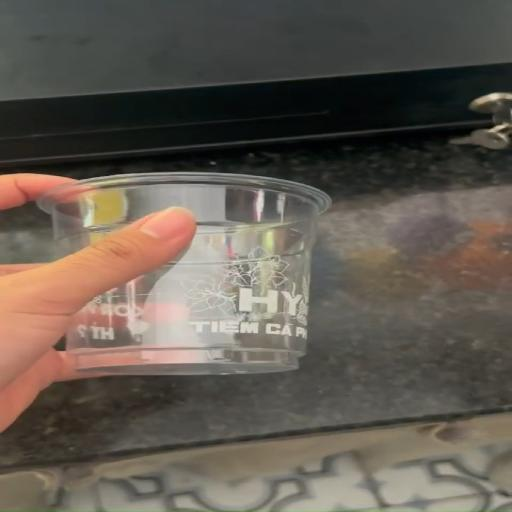ly_nhua: (38, 172, 329, 374)
